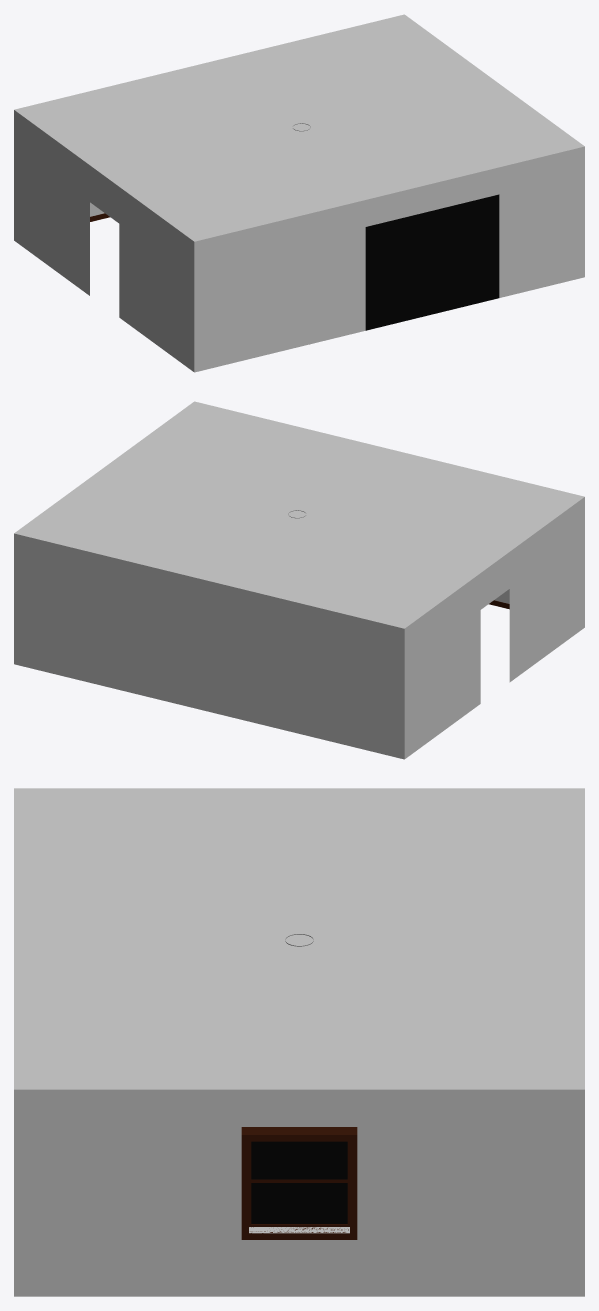
Rendered from reference-room.fbx.
3 renders of one model, top to bottom at view 1: azimuth 30°, elevation 25°; view 2: azimuth 150°, elevation 25°; view 3: azimuth 270°, elevation 25°, orthographic. The views are drawn at different scales.
Visible parts, largest first — view 1: room; view 2: room; view 3: room.
Part boxes in pixels (x1,y1,x2,y2): room: [14, 14, 584, 372]; room: [14, 401, 584, 759]; room: [14, 788, 584, 1296].
Size of the model in its own units: 10.26 by 3.21 by 8.
